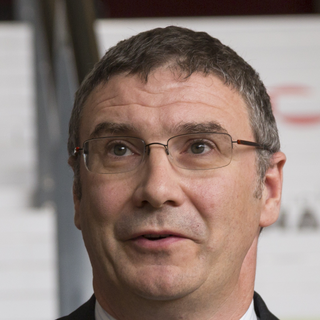eye: (98, 139, 144, 162), (176, 135, 221, 158)
